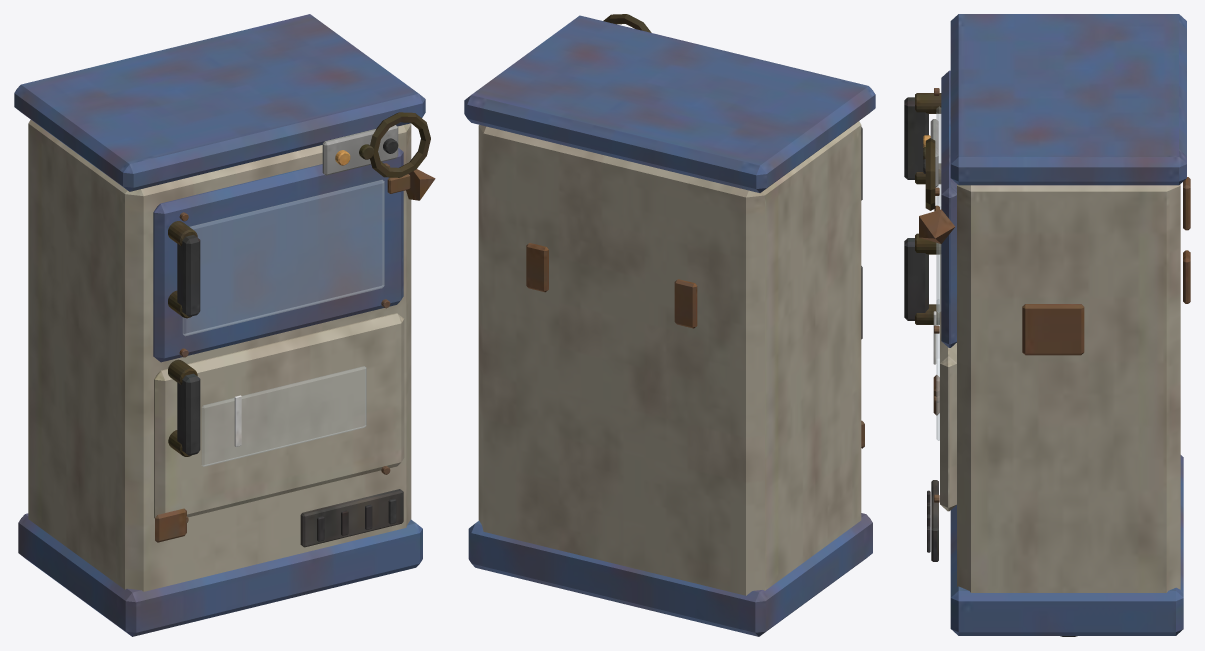
Rendered from HE08_lab_sample_fridge.glb.
3 renders of one model, left to right at view 1: azimuth 30°, elevation 25°; view 2: azimuth 150°, elevation 25°; view 3: azimuth 270°, elevation 25°, orthographic.
Parts seen in each view (by area): view 1: fridge cabinet; view 2: fridge cabinet; view 3: fridge cabinet.
Part boxes in pixels (x1,y1,x2,y2): fridge cabinet: (14, 14, 435, 636); fridge cabinet: (464, 14, 875, 636); fridge cabinet: (904, 14, 1190, 636).
Size of the model in its own units: 1.12 by 1.7 by 0.9065.
Materials: 10 (9 with a texture image).
